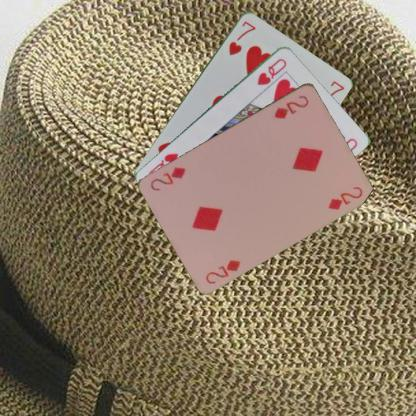2d: (203, 256, 242, 286), (272, 92, 310, 120)
7h: (226, 18, 257, 56)
Qh: (254, 56, 288, 86)
